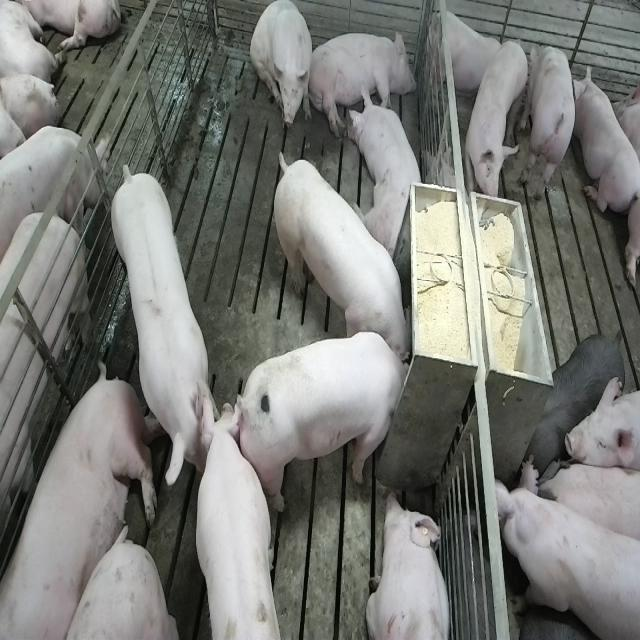Feeding: (243, 331, 420, 512), (270, 144, 411, 361)
Lateral_lying: (307, 28, 416, 140)
Sitting: (250, 2, 314, 137)
Standing: (0, 202, 90, 640), (110, 155, 220, 485), (494, 458, 638, 640), (188, 396, 281, 640), (0, 125, 109, 270), (528, 331, 628, 469), (463, 39, 530, 208), (539, 452, 640, 552), (528, 36, 579, 191)
Sternal_lying: (351, 88, 428, 260), (366, 490, 453, 640), (574, 62, 638, 215), (426, 5, 514, 100)
